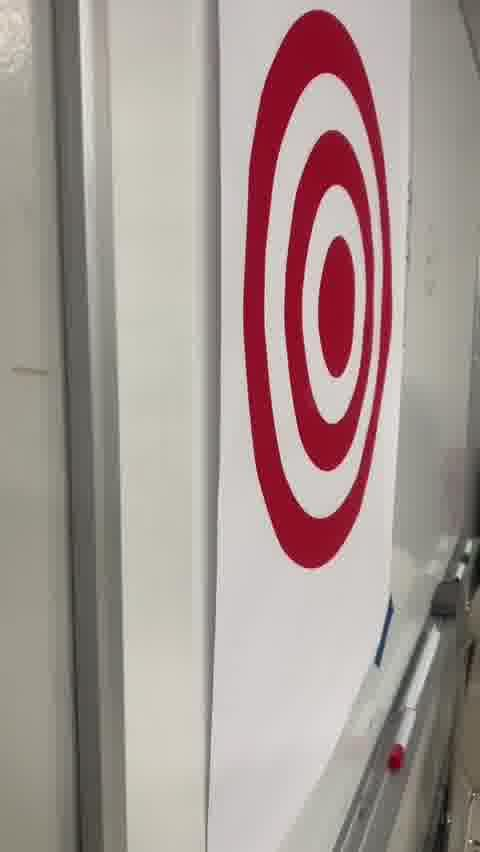target_red: (244, 10, 394, 569)
